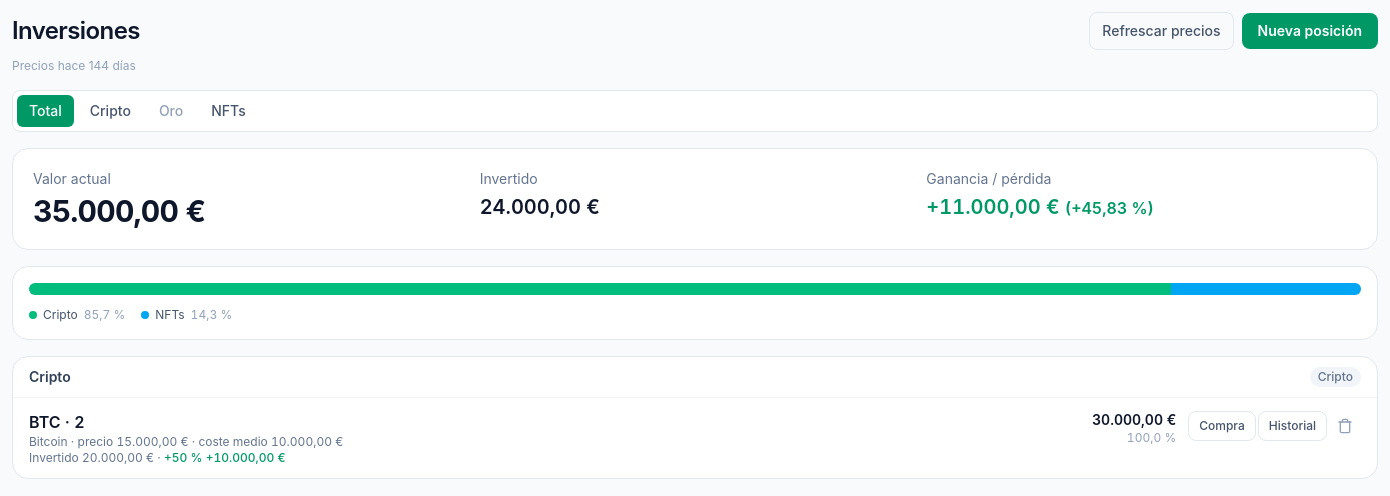
Test case: InvestmentsPage › refreshes prices via the refresh endpoint
This screenshot has width=1390, height=496.
Click the button "Refrescar precios" at (1161, 31), box 1089,12 -> 1234,50
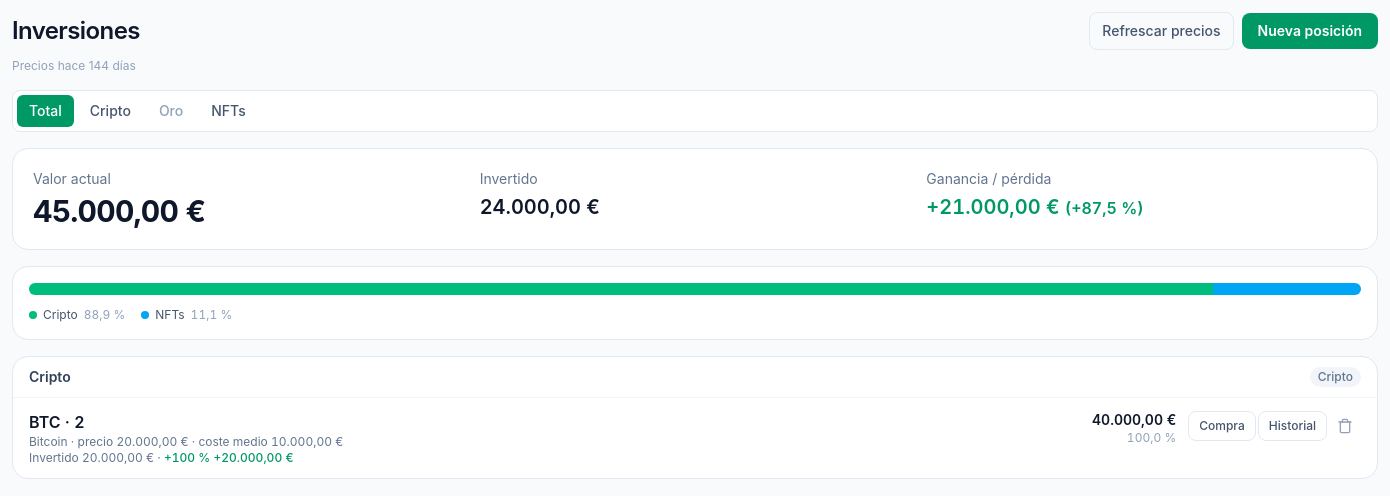
expect the text "40.000,00 €" is shown: met, box 1092,410 -> 1176,430
